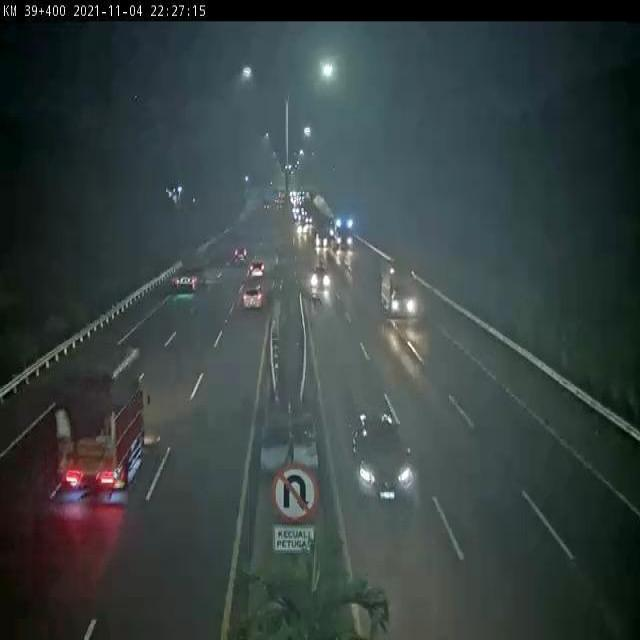car: (350, 405, 414, 500), (241, 286, 264, 310), (309, 261, 330, 287), (248, 257, 264, 280), (232, 248, 248, 265)
truck-m-: (55, 340, 145, 496), (380, 260, 418, 317), (171, 244, 207, 289)
